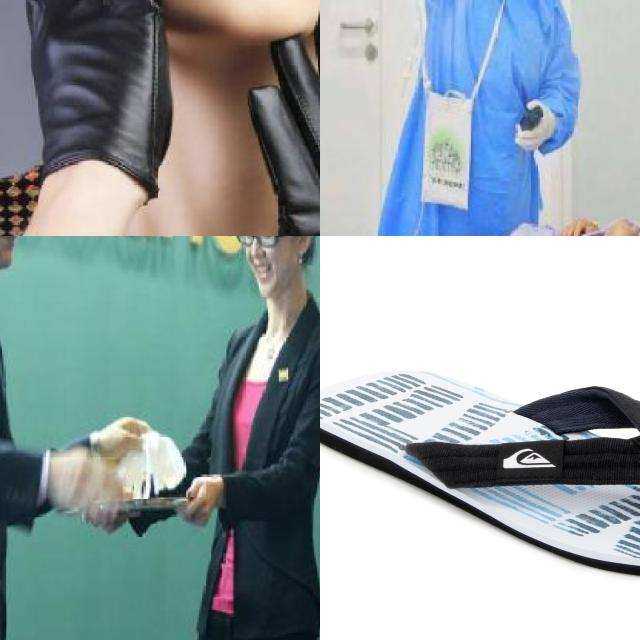Sandals: (320, 367, 640, 584)
face_nomask: (228, 236, 295, 297)
glasses: (233, 236, 287, 250)
hand_glove: (17, 0, 186, 179), (244, 5, 320, 236), (96, 413, 157, 461), (561, 214, 598, 236), (603, 216, 640, 236)
hand_noglove: (512, 98, 551, 154), (185, 473, 223, 530)
person: (154, 236, 320, 640), (380, 0, 609, 236), (0, 236, 98, 640)
